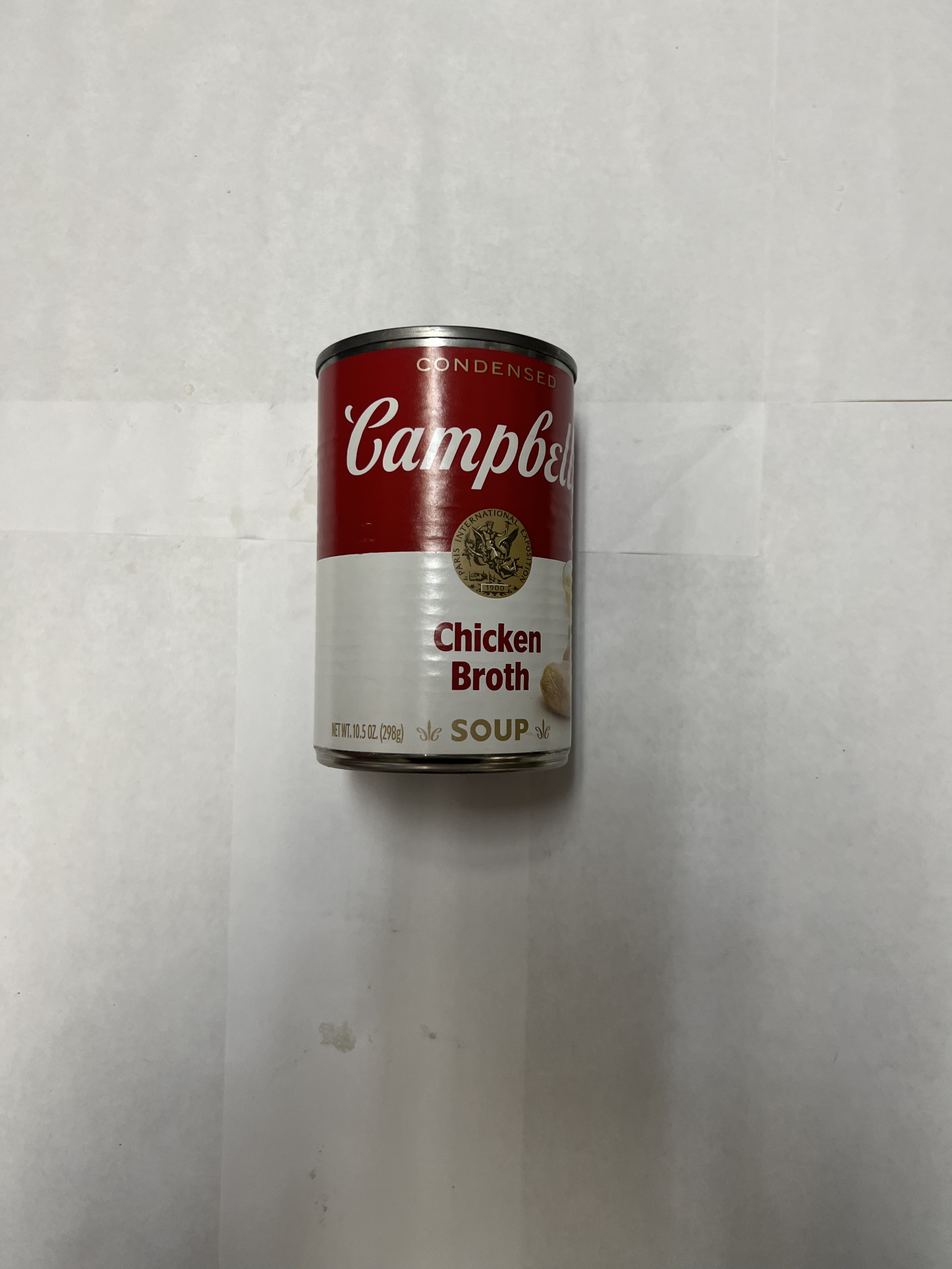packaged: (303, 320, 582, 780)
